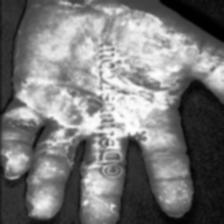Non-Cancerous Skin Condition: (41, 1, 165, 43), (20, 62, 84, 140), (126, 62, 166, 141), (198, 50, 224, 92)
